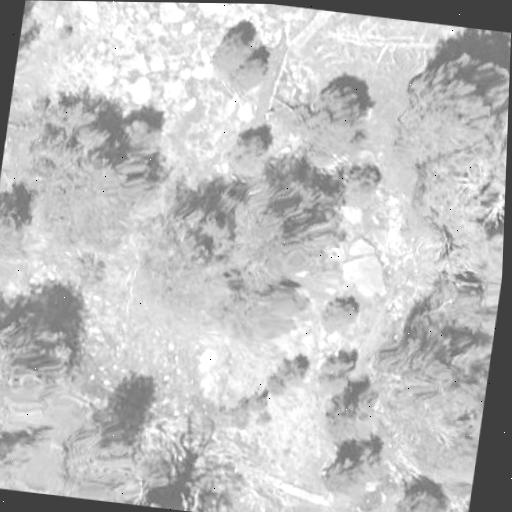tree-top: (141, 136, 358, 351), (3, 83, 183, 260), (338, 275, 501, 469), (384, 41, 511, 184), (413, 139, 507, 270), (267, 69, 387, 168), (0, 302, 86, 423), (53, 404, 157, 498), (209, 24, 285, 100), (318, 431, 399, 500), (209, 126, 284, 184), (387, 467, 469, 512), (332, 157, 393, 216), (260, 345, 321, 400), (308, 342, 364, 399), (0, 196, 34, 268), (0, 405, 28, 491), (317, 287, 366, 335)
